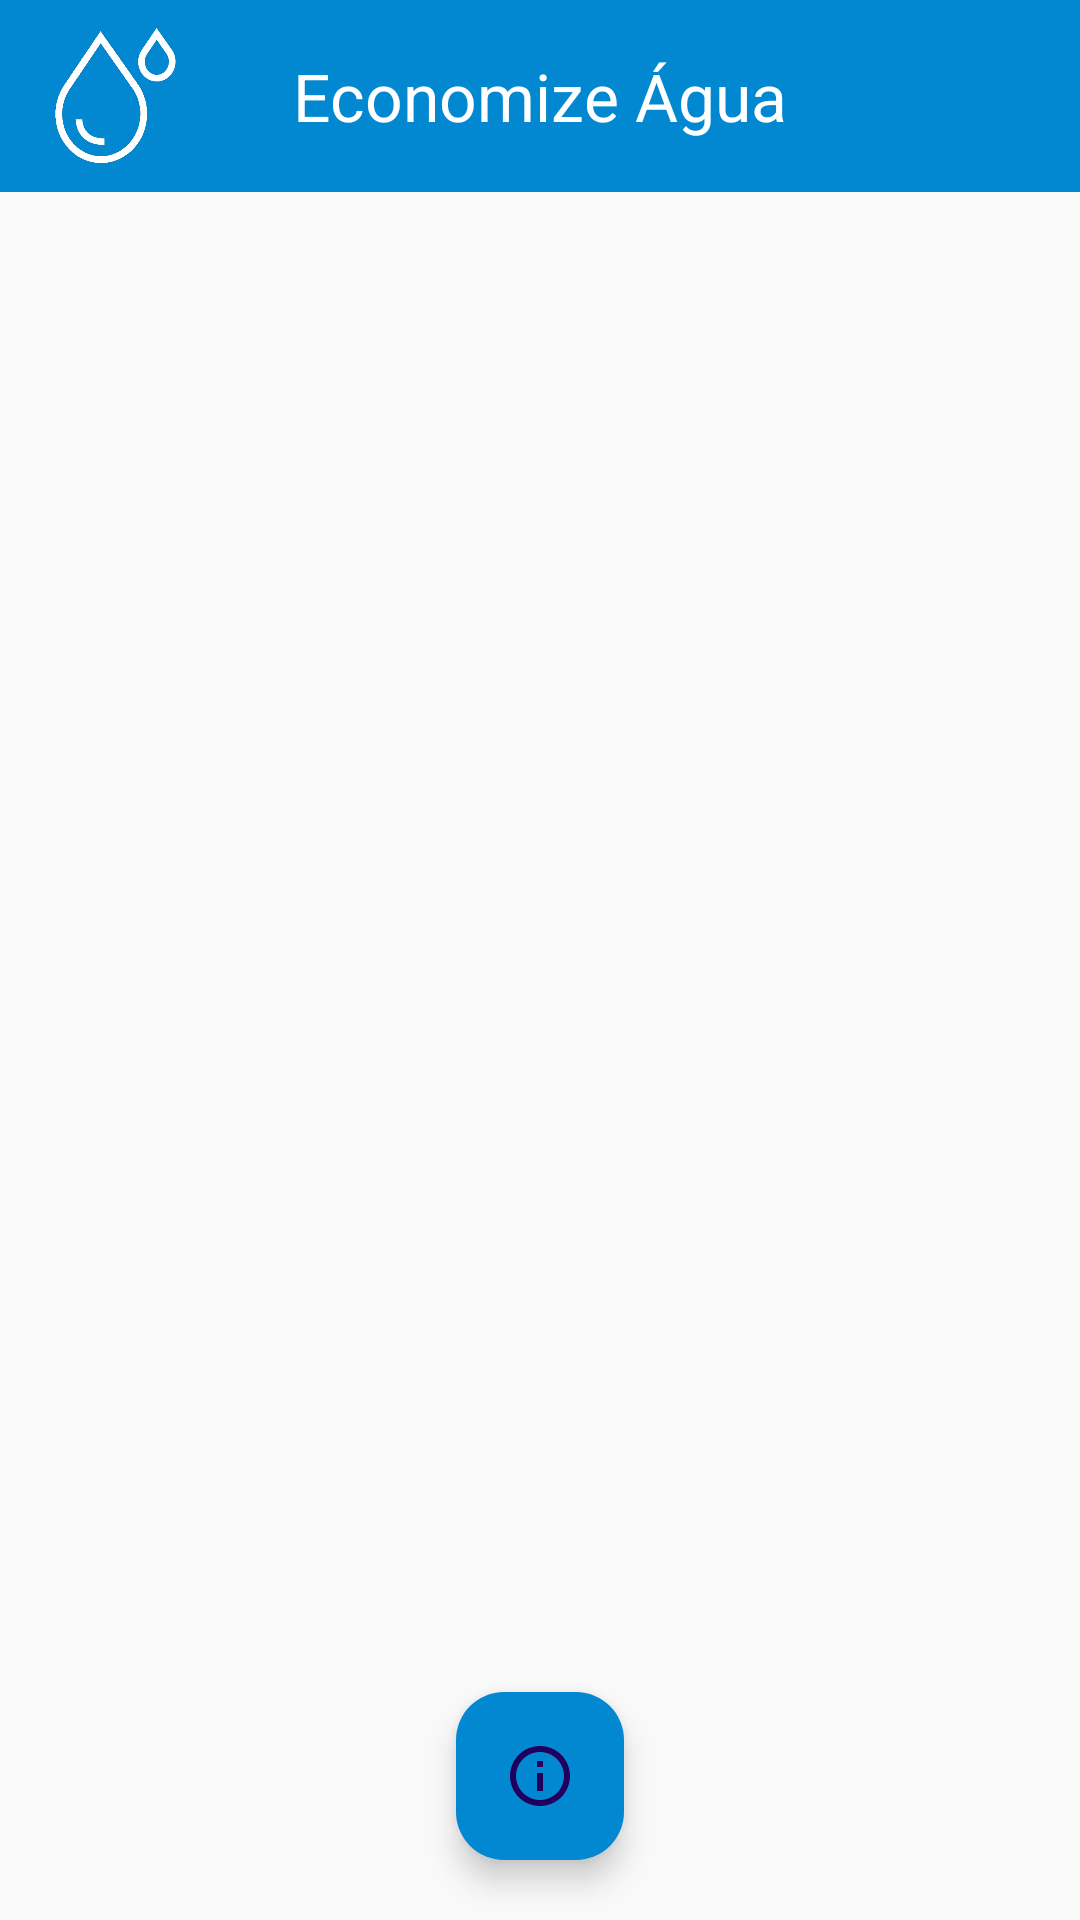

Screen size 1080 × 1920. Icon name, then its center in pixels as (x=x, y=y):
gotas de agua br: (x=115, y=95)
